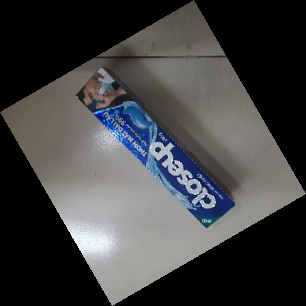CloseUp Tuyet: (76, 67, 236, 229)
